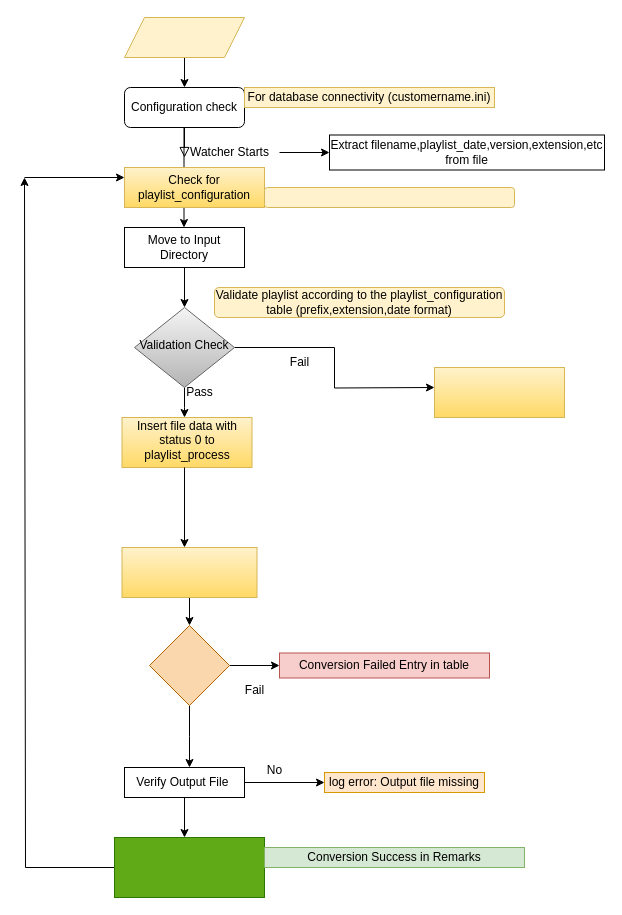
Some shapes in this 622 by 915 pixel diagram are drawn without their labels. The shapes that lost their labels are listed below. From the top down, each one's centre as x and y in pixels, then its label:
pixel 184 37: Start
pixel 389 197: take watch i/p, input, output path
pixel 499 392: Insert file data with status 99 to playlist_process
pixel 189 572: Check file with status 0 in playlist_process
pixel 189 665: Execute Binary
pixel 189 867: Conversion Success(Update status =1)
